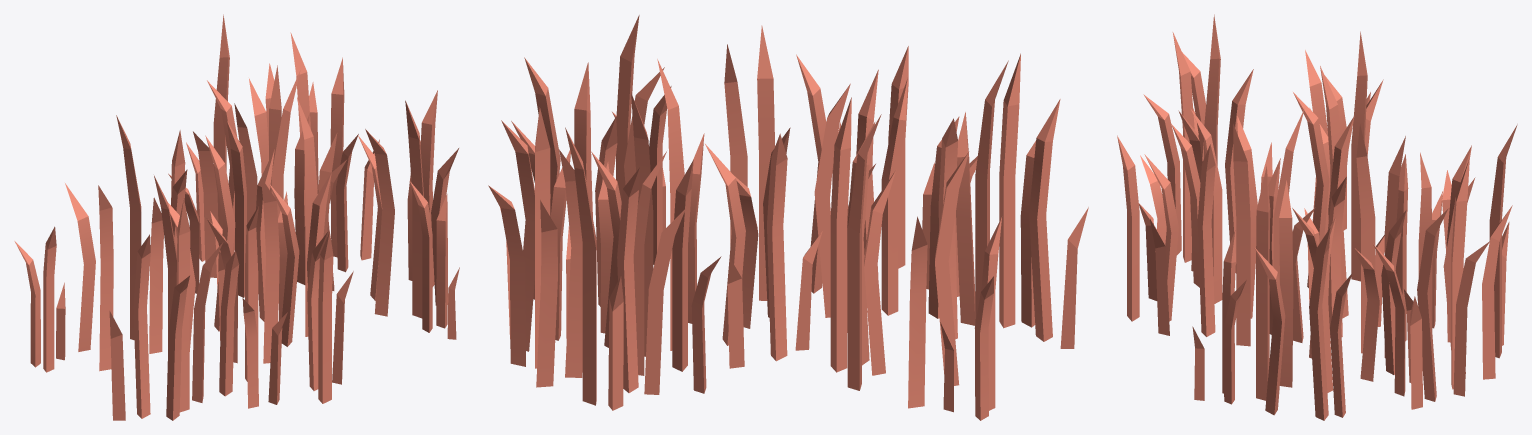
File: SM_Prop_Plant_Wheat_Optimised_04.fbx
The picture shows the model from 3 angles, left to right: view 1: azimuth 30°, elevation 25°; view 2: azimuth 150°, elevation 25°; view 3: azimuth 270°, elevation 25°; orthographic projection. The views are drawn at different scales.
Visible parts, largest first — view 1: SM_Prop_Plant_Wheat_Optimised_04; view 2: SM_Prop_Plant_Wheat_Optimised_04; view 3: SM_Prop_Plant_Wheat_Optimised_04.
Boxes of the visible parts, x1,y1,x2,y2 form: SM_Prop_Plant_Wheat_Optimised_04: (14,14,459,420); SM_Prop_Plant_Wheat_Optimised_04: (488,15,1088,420); SM_Prop_Plant_Wheat_Optimised_04: (1117,14,1517,420).
Size of the model in its own units: 1.74 by 0.9449 by 1.44.
1 material, 1 textured.
